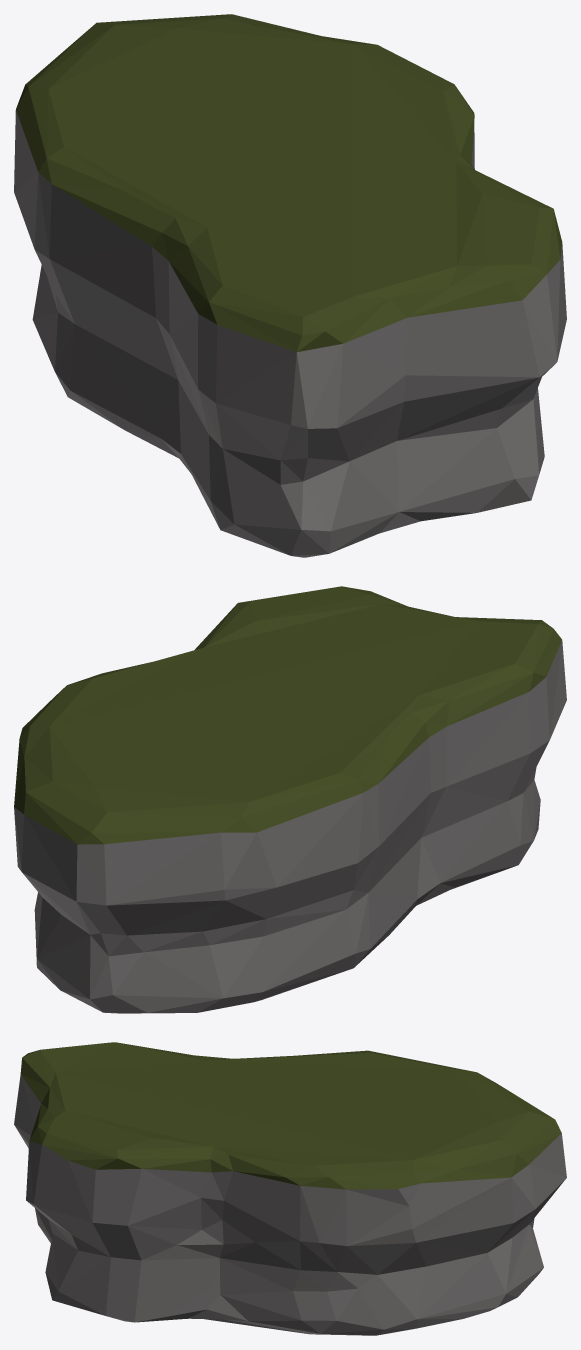
Rendered from jp_rocks_fall_left.glb.
3 views of the same model, one above another, from view 1: azimuth 30°, elevation 25°; view 2: azimuth 150°, elevation 25°; view 3: azimuth 270°, elevation 25° (orthographic). The views are drawn at different scales.
Visible parts, largest first — view 1: Cliff_rock_02_Grass.001_7; view 2: Cliff_rock_02_Grass.001_7; view 3: Cliff_rock_02_Grass.001_7.
Boxes of the visible parts, bbox=[...] form: Cliff_rock_02_Grass.001_7: bbox=[14, 14, 566, 557]; Cliff_rock_02_Grass.001_7: bbox=[14, 586, 566, 1013]; Cliff_rock_02_Grass.001_7: bbox=[14, 1042, 566, 1335].
Size of the model in its own units: 51.94 by 30.23 by 85.69.
